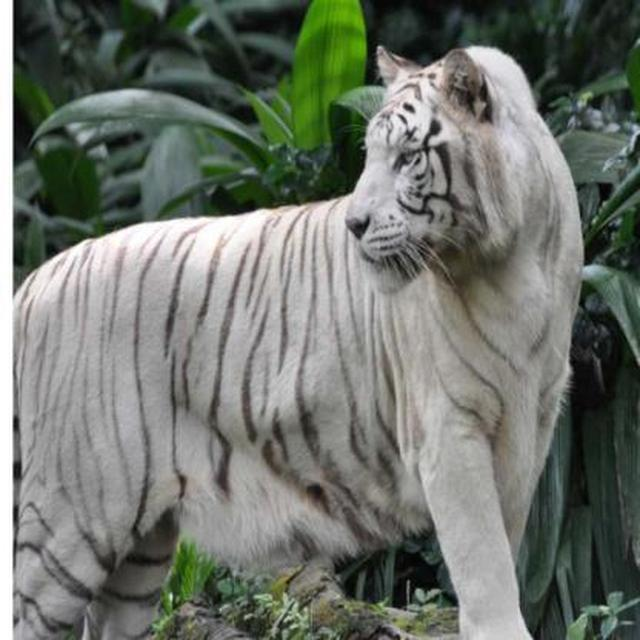tiger: (12, 42, 586, 639)
